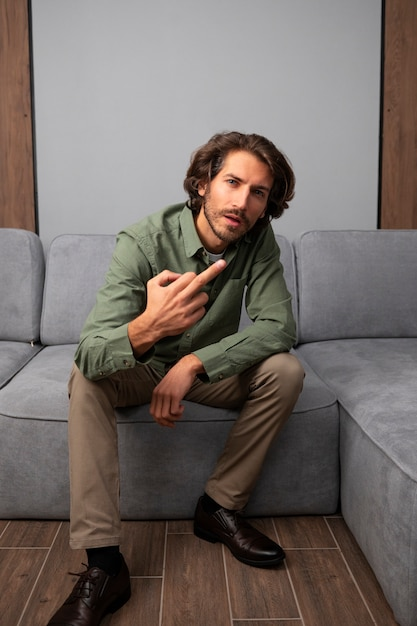insulting_gesture: (137, 257, 229, 344)
